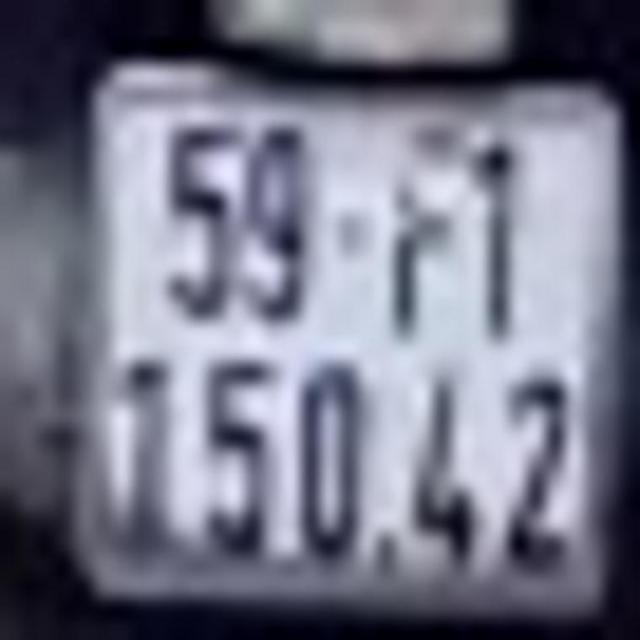0: (298, 351, 362, 555)
1: (114, 354, 172, 551), (475, 139, 520, 344)
2: (504, 375, 571, 571)
4: (402, 368, 482, 570)
5: (164, 119, 239, 328), (200, 352, 274, 558)
9: (245, 112, 309, 323)
P: (384, 137, 465, 352)
